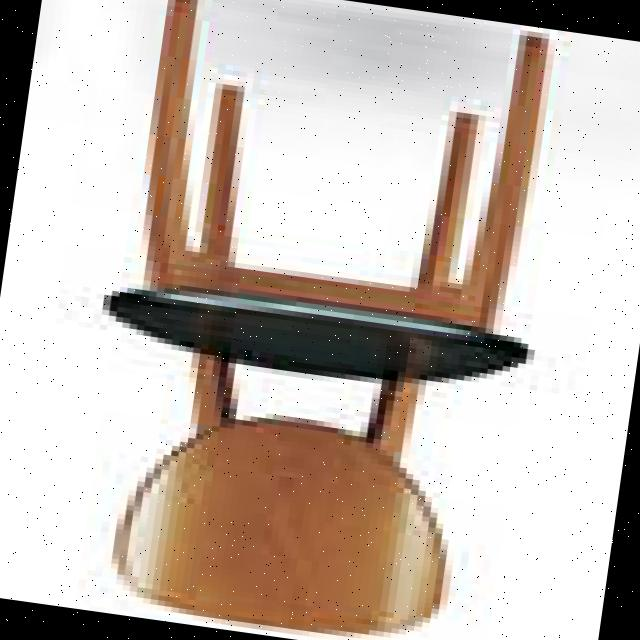Chair: (11, 0, 615, 640)
